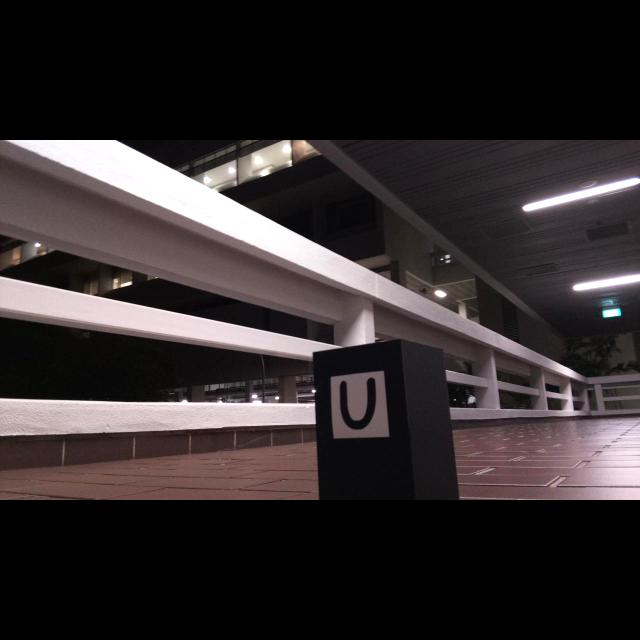U: (339, 377, 376, 431)
